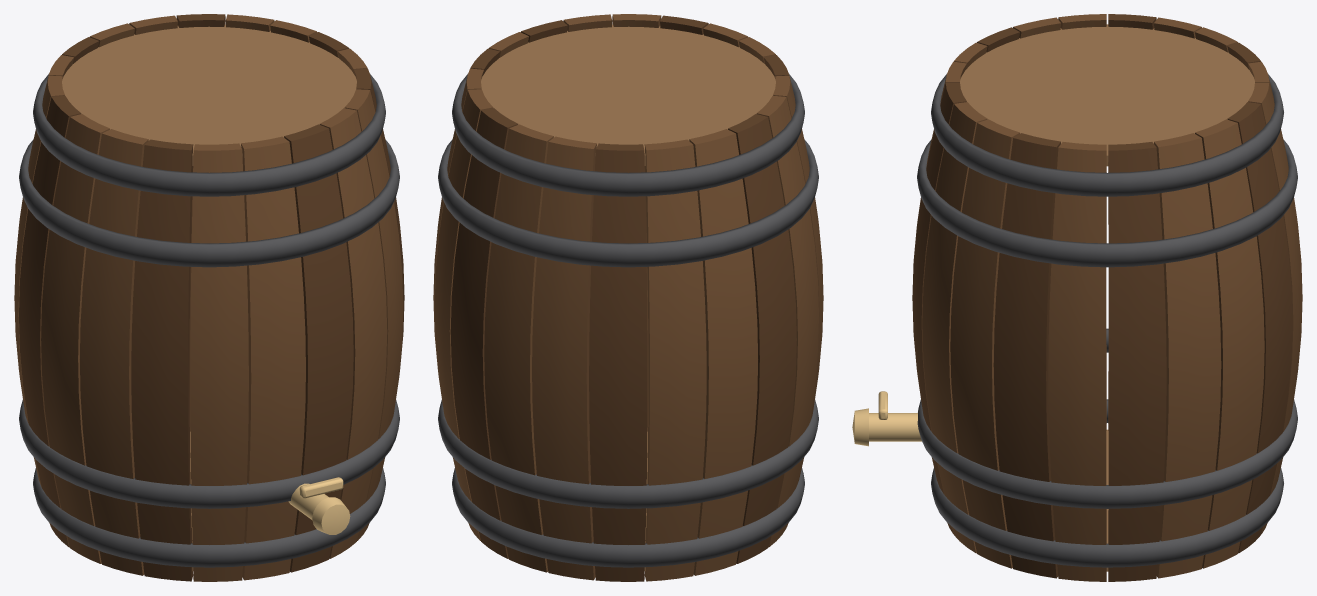
Rendered from barrel.glb.
3 views of the same model, side by side, from view 1: azimuth 30°, elevation 25°; view 2: azimuth 150°, elevation 25°; view 3: azimuth 270°, elevation 25° (orthographic).
Visible parts, largest first — view 1: head.001, stave.013, stave.012, stave.014, stave.011, stave.015, stave.010, stave.016, hoop.002, hoop.003, hoop.001, hoop (+13 smaller); view 2: head.001, stave.006, stave.007, stave.005, stave.008, stave.004, stave.009, stave.003, hoop.002, hoop.003, hoop.001, hoop (+10 smaller); view 3: head.001, stave, stave.019, stave.018, stave.001, stave.017, stave.002, hoop.002, hoop.003, stave.016, stave.003, hoop.001 (+8 smaller).
Boxes of the visible parts, x1,y1,x2,y2 form: head.001: (62,24,356,165); stave.013: (190,143,248,581); stave.012: (131,139,193,581); stave.014: (241,136,305,580); stave.011: (80,129,148,575); stave.015: (284,124,353,572); stave.010: (41,114,109,563); stave.016: (319,108,387,558); hoop.002: (19,139,399,267); hoop.003: (33,74,385,196); hoop.001: (19,400,399,508); hoop: (33,468,385,567); head.001: (481,24,775,165); stave.006: (589,143,647,581); stave.007: (644,139,706,581); stave.005: (532,136,596,580); stave.008: (689,129,757,575); stave.004: (484,124,553,572); stave.009: (728,114,796,563); stave.003: (450,108,518,558); hoop.002: (438,139,818,267); hoop.003: (452,74,804,196); hoop.001: (438,400,818,508); hoop: (452,468,804,567); head.001: (960,24,1254,166); stave: (1108,142,1166,581); stave.019: (1048,142,1106,581); stave.018: (993,133,1060,578); stave.001: (1154,133,1221,578); stave.017: (950,119,1019,568); stave.002: (1195,119,1264,568); hoop.002: (917,139,1297,267); hoop.003: (931,74,1283,196); stave.016: (922,102,987,553); stave.003: (1227,102,1292,553); hoop.001: (917,328,1297,508).
Size of the model in its own units: 0.82 by 1 by 0.9461.
